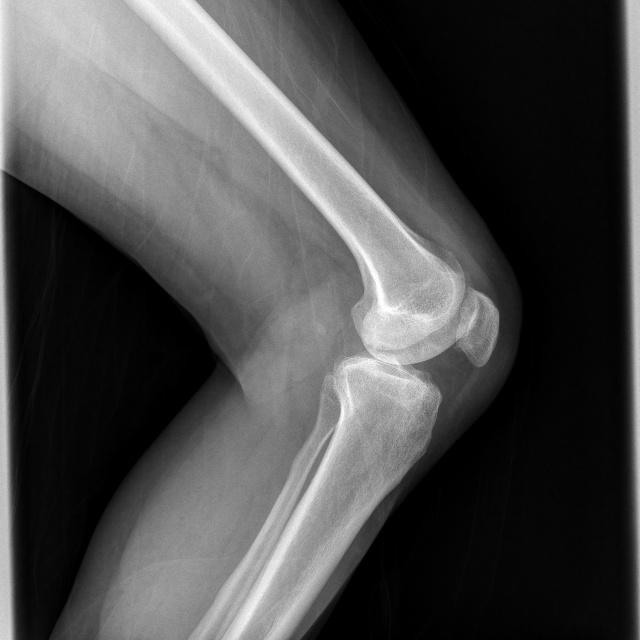Knee: (330, 280, 501, 426)
